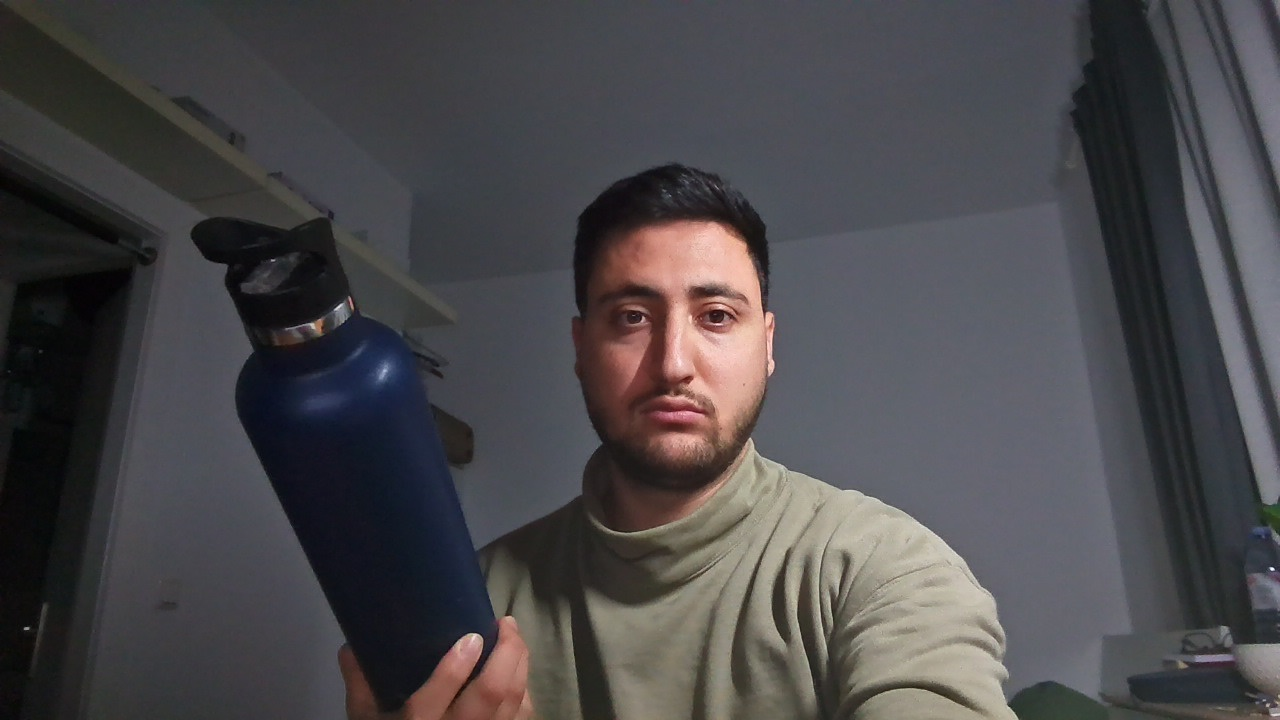Wasserflasche: (165, 182, 518, 679)
me: (559, 147, 790, 497)
